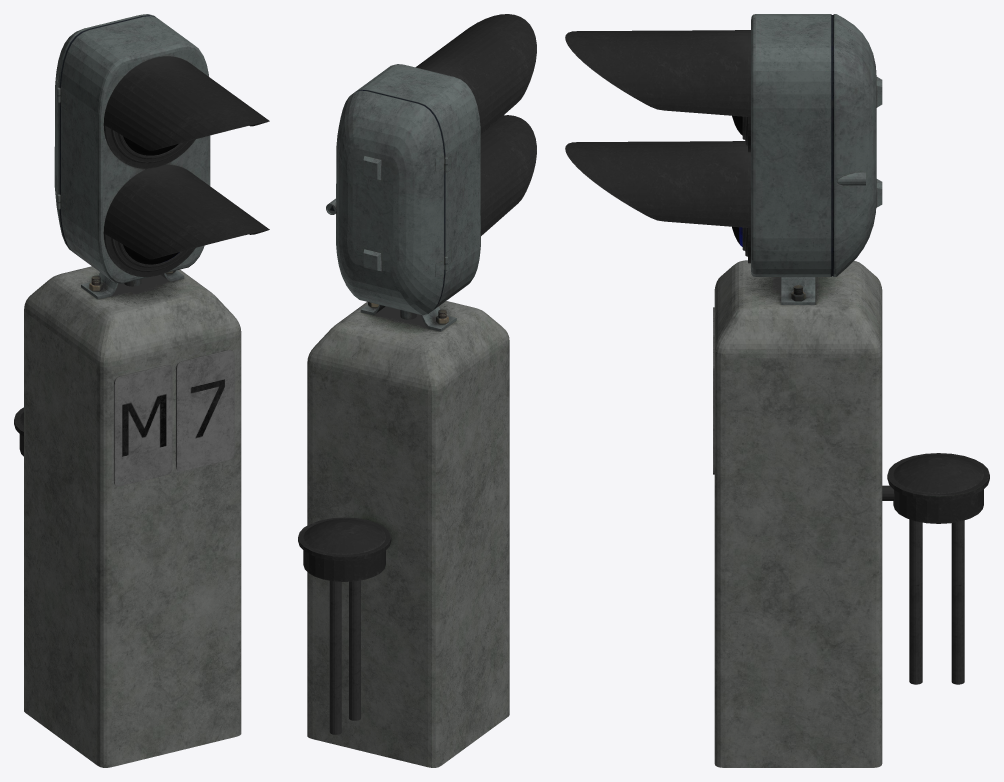
The model's file is JIH5455721411.glb.
The picture shows the model from 3 angles, left to right: view 1: azimuth 30°, elevation 25°; view 2: azimuth 150°, elevation 25°; view 3: azimuth 270°, elevation 25°; orthographic projection. The views are drawn at different scales.
Visible parts, largest first — view 1: 0b75e910_ef28_4eef_bae2_b58b49f8f742; view 2: 0b75e910_ef28_4eef_bae2_b58b49f8f742; view 3: 0b75e910_ef28_4eef_bae2_b58b49f8f742.
Boxes of the visible parts, <box> form: 0b75e910_ef28_4eef_bae2_b58b49f8f742: <box>14,14,269,767</box>; 0b75e910_ef28_4eef_bae2_b58b49f8f742: <box>298,14,536,767</box>; 0b75e910_ef28_4eef_bae2_b58b49f8f742: <box>565,14,989,767</box>.
Size of the model in its own units: 0.2165 by 1 by 0.5479.
Materials: 1 (1 with a texture image).
